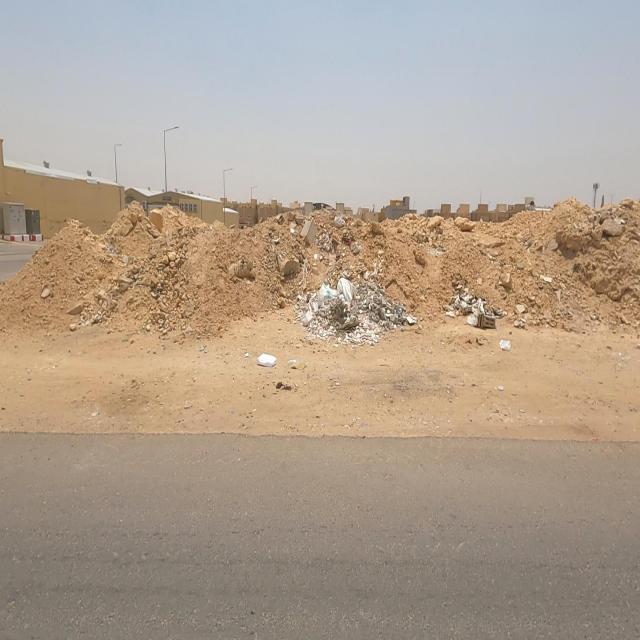debris: (318, 224, 453, 385), (270, 227, 375, 390), (419, 243, 527, 376), (272, 191, 349, 287), (233, 322, 317, 406), (313, 184, 377, 270), (470, 304, 534, 372), (522, 242, 574, 316)
